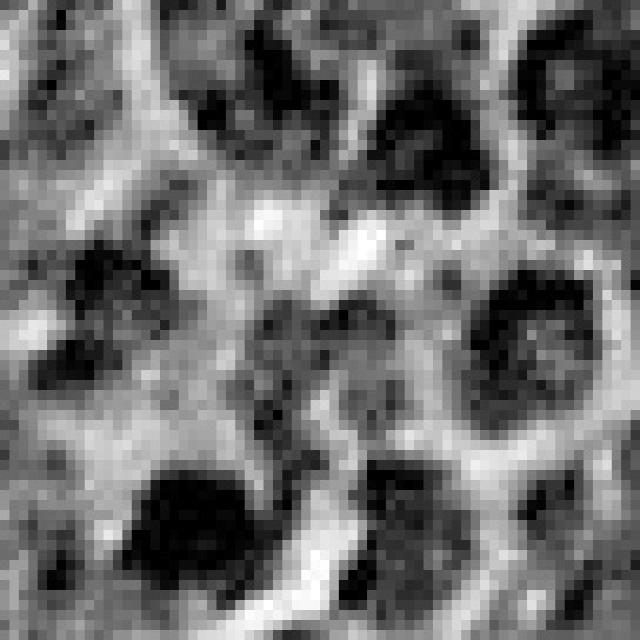inner: (214, 277, 435, 475)
lobe: (21, 239, 209, 415), (172, 26, 346, 195), (337, 59, 497, 230), (330, 455, 487, 626), (115, 464, 287, 608)
outer: (0, 1, 640, 640), (460, 255, 608, 437)
